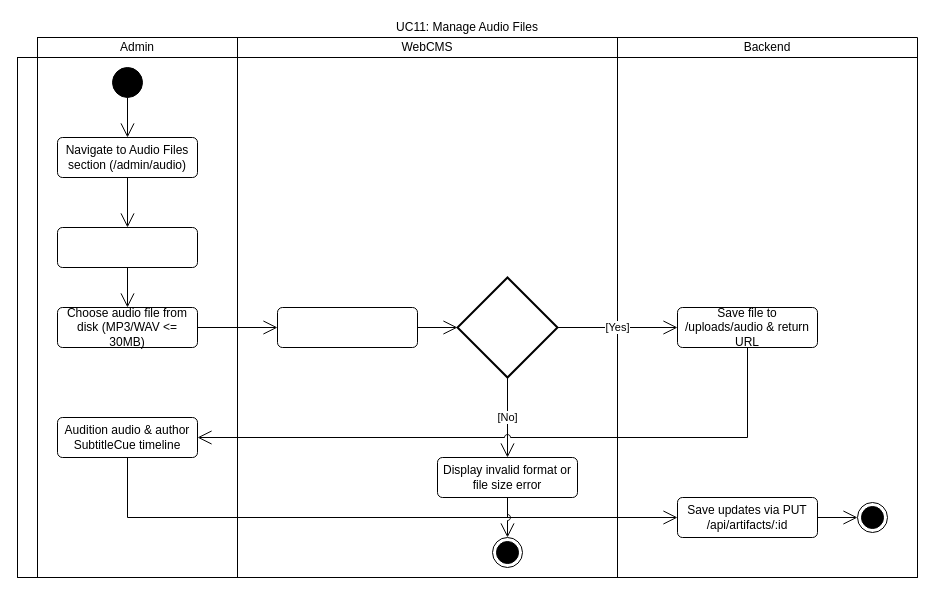
This 935x595 diagram has some shape labels left out. The centre of each missing label's shape, as x and y in pixels:
Dispatch POST /api/uploads/audio: point 347,327
File format valid and <= 30MB?: point 507,327
Select target artifact & language: point 127,247
